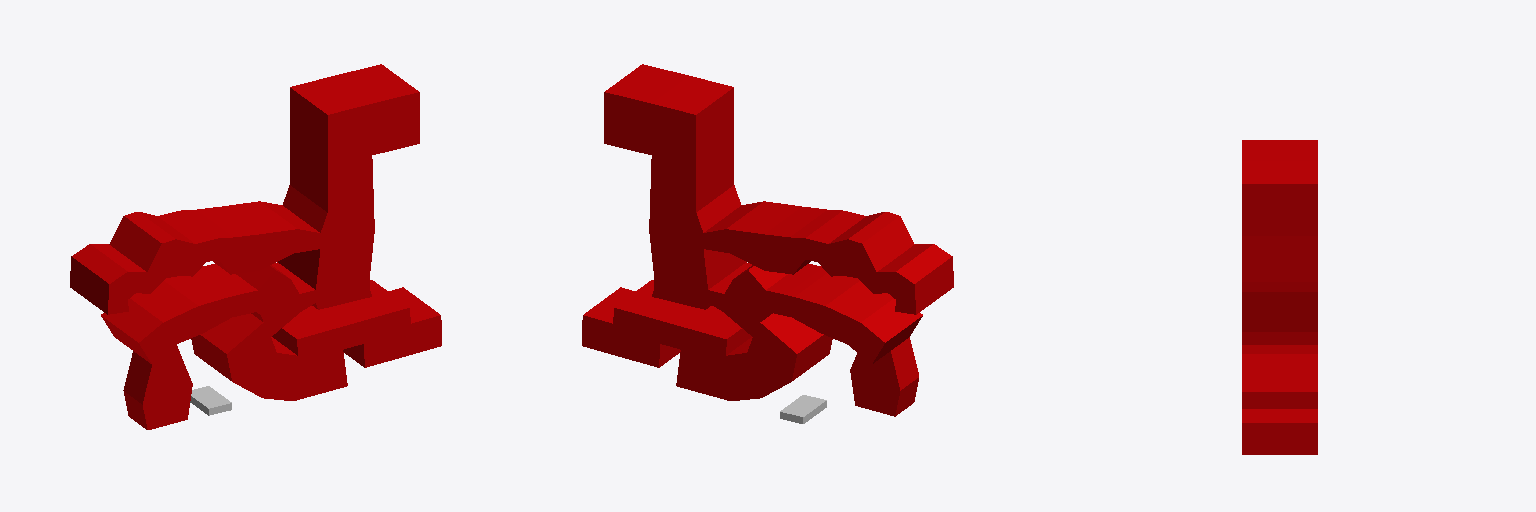
3 views of the same model, side by side, from view 1: azimuth 30°, elevation 25°; view 2: azimuth 150°, elevation 25°; view 3: azimuth 270°, elevation 25° (orthographic).
Visible parts, largest first — view 1: World.MeshShape, DeliveryZone.BoxShape; view 2: World.MeshShape, DeliveryZone.BoxShape; view 3: World.MeshShape.
Boxes of the visible parts, <box> form: World.MeshShape: <box>70,64,441,429</box>; DeliveryZone.BoxShape: <box>190,386,231,415</box>; World.MeshShape: <box>582,64,953,416</box>; DeliveryZone.BoxShape: <box>780,395,826,423</box>; World.MeshShape: <box>1242,140,1317,454</box>.
Size of the model in its own units: 49.5 by 40.31 by 9.75.